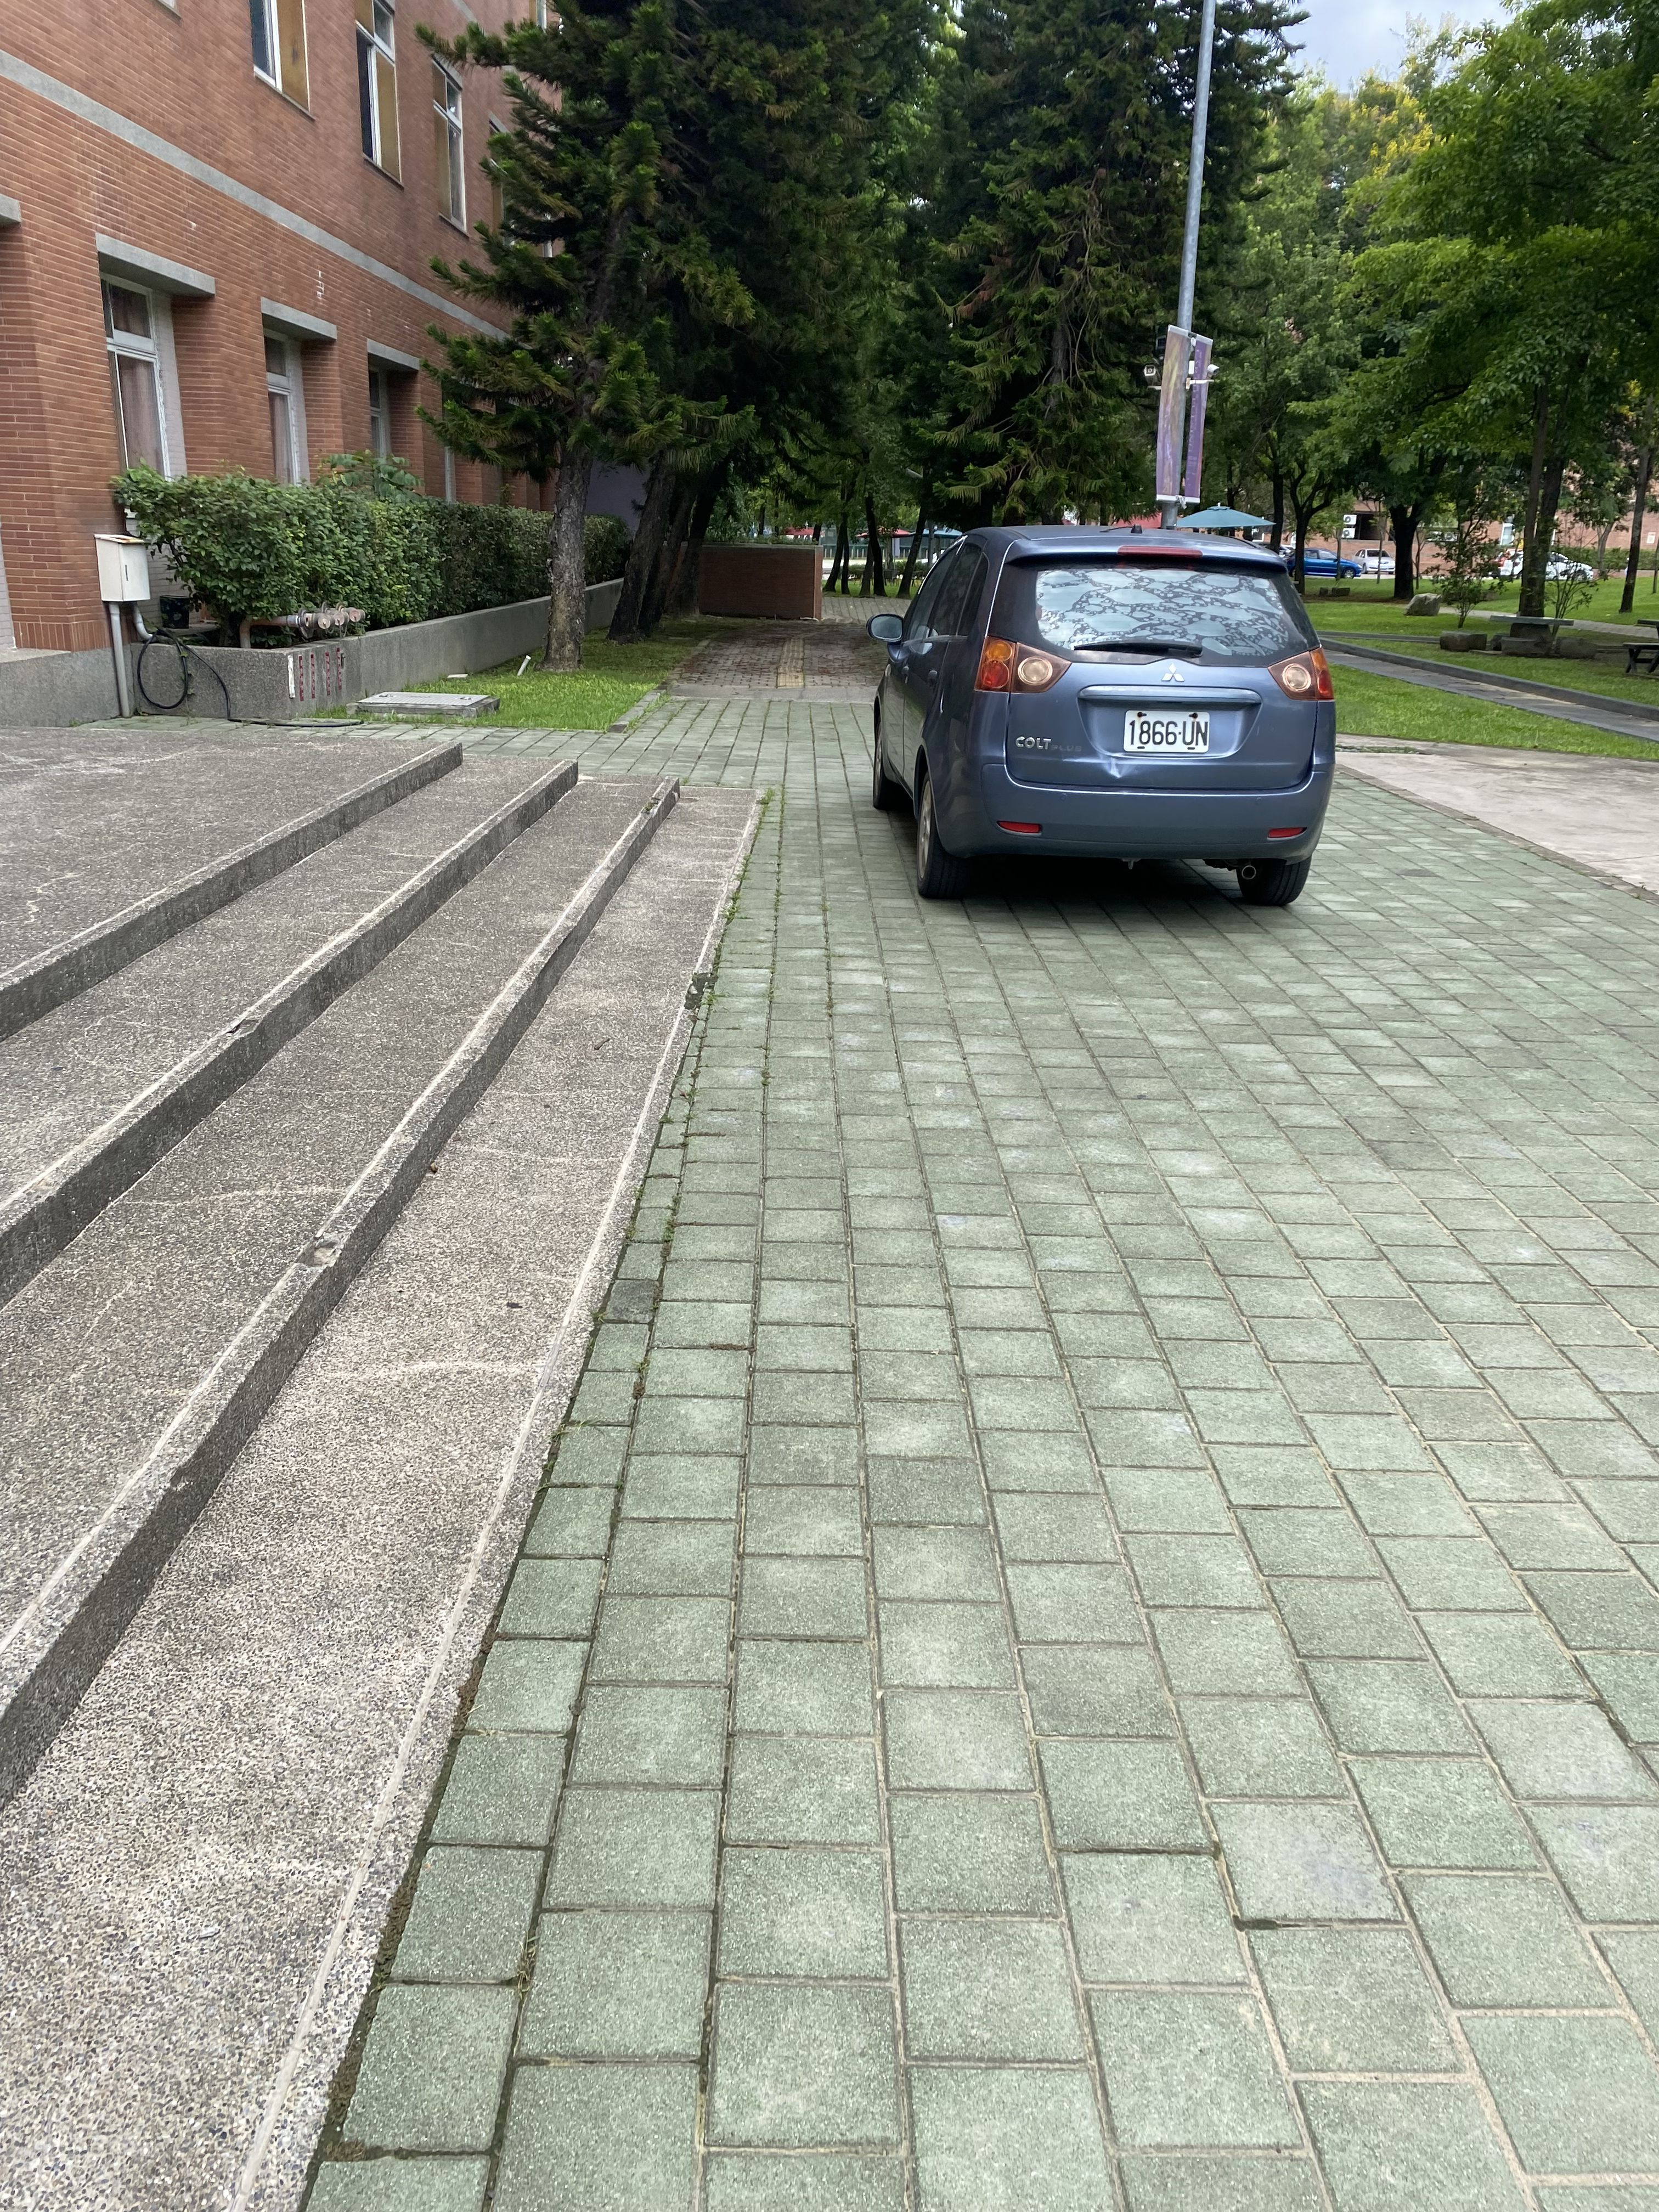sidewalk: (343, 622, 1659, 2212)
